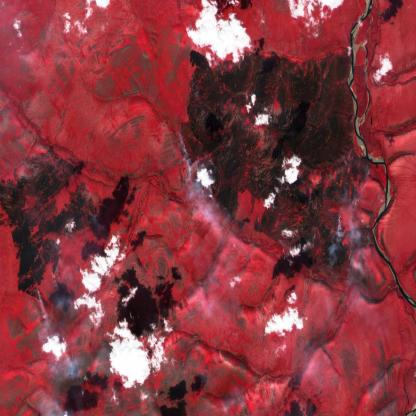fire: (164, 112, 212, 207), (336, 220, 386, 282), (339, 146, 372, 214), (29, 270, 49, 316), (81, 199, 100, 233)
